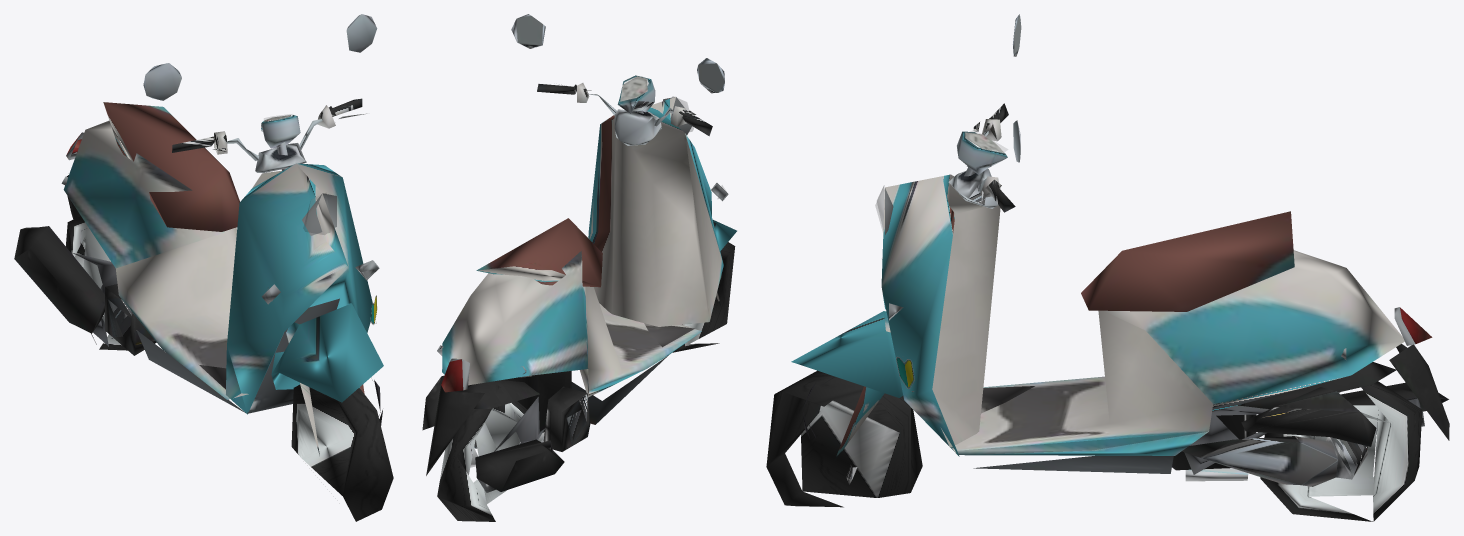
File: xe-ga-vino.glb
The picture shows the model from 3 angles, left to right: view 1: azimuth 30°, elevation 25°; view 2: azimuth 150°, elevation 25°; view 3: azimuth 270°, elevation 25°; orthographic projection. The views are drawn at different scales.
Visible parts, largest first — view 1: Plane003_Main Body_0, Sphere001_Tire_0, Plane003_SmallParts_0, Sphere001_Main Body_0, Sphere001_SmallParts_0, Plane003_Tire_0, Plane003_Lamp & Glass_0, Plane003_Glass_0; view 2: Plane003_Main Body_0, Plane003_SmallParts_0, Plane003_Tire_0, Sphere001_SmallParts_0, Sphere001_Tire_0, Plane003_Lamp & Glass_0, Sphere001_Glass_0, Sphere001_Main Body_0; view 3: Plane003_Main Body_0, Plane003_SmallParts_0, Sphere001_Tire_0, Plane003_Tire_0, Sphere001_Main Body_0, Sphere001_SmallParts_0, Plane003_Lamp & Glass_0.
Part boxes in pixels (x1,y1,x2,y2): Plane003_Main Body_0: (63,102,372,414); Sphere001_Tire_0: (291,384,393,521); Plane003_SmallParts_0: (14,175,156,355); Sphere001_Main Body_0: (271,303,383,455); Sphere001_SmallParts_0: (143,14,382,425); Plane003_Tire_0: (65,216,127,350); Plane003_Lamp & Glass_0: (61,132,379,304); Plane003_Glass_0: (263,193,371,301); Plane003_Main Body_0: (442,97,723,424); Plane003_SmallParts_0: (422,371,590,492); Plane003_Tire_0: (437,385,527,521); Sphere001_SmallParts_0: (511,14,724,145); Sphere001_Tire_0: (673,242,735,352); Plane003_Lamp & Glass_0: (437,97,728,392); Sphere001_Glass_0: (620,76,649,103); Sphere001_Main Body_0: (712,220,736,305); Plane003_Main Body_0: (881,174,1404,473); Plane003_SmallParts_0: (1172,344,1449,486); Sphere001_Tire_0: (766,370,922,507); Plane003_Tire_0: (1260,381,1422,521); Sphere001_Main Body_0: (791,311,903,461); Sphere001_SmallParts_0: (802,14,1021,484); Plane003_Lamp & Glass_0: (885,188,1432,359).
Size of the model in its own units: 0.4177 by 0.7126 by 0.9736.
Materials: 6 (6 with a texture image).
